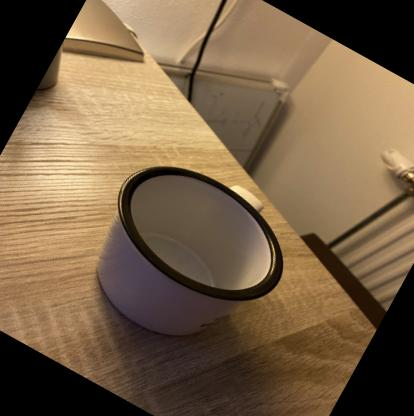Cup: (62, 130, 318, 380)
